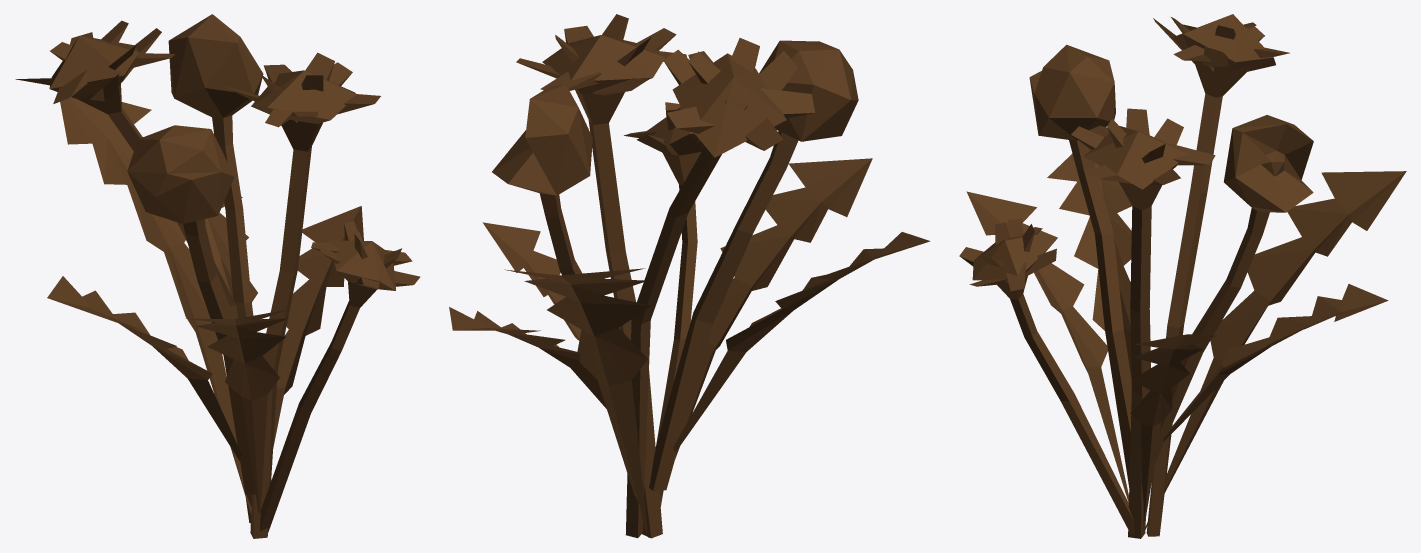
Rendered from SM_Flower_Dandelion_Bloomed_A.fbx.
3 views of the same model, side by side, from view 1: azimuth 30°, elevation 25°; view 2: azimuth 150°, elevation 25°; view 3: azimuth 270°, elevation 25° (orthographic). The views are drawn at different scales.
Visible parts, largest first — view 1: flower-dandelion-bloomed-a; view 2: flower-dandelion-bloomed-a; view 3: flower-dandelion-bloomed-a.
Boxes of the visible parts, bbox=[...] form: flower-dandelion-bloomed-a: bbox=[15, 14, 420, 538]; flower-dandelion-bloomed-a: bbox=[449, 14, 930, 538]; flower-dandelion-bloomed-a: bbox=[959, 14, 1406, 538].
Bounding box in the file's own units: 0.4287 × 0.5653 × 0.4843.
